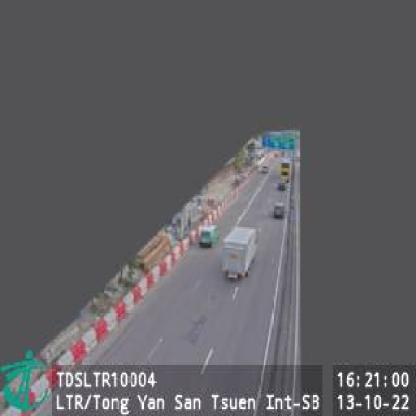Bus: (280, 159, 290, 184)
Car: (274, 202, 285, 219), (261, 165, 270, 174), (278, 180, 285, 190)
Truck: (222, 223, 259, 280)
